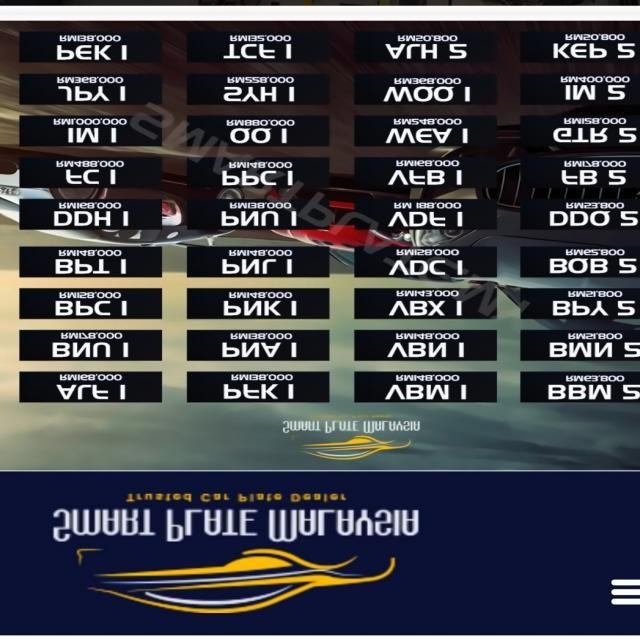car-plate: (18, 27, 162, 68), (188, 24, 330, 64), (354, 29, 496, 69), (188, 110, 326, 150), (23, 70, 164, 109), (18, 152, 162, 190), (352, 112, 496, 150), (353, 73, 500, 110), (187, 243, 330, 280), (353, 370, 498, 406), (352, 243, 495, 279), (353, 156, 494, 192), (17, 246, 163, 280), (21, 287, 160, 322), (186, 74, 326, 108), (23, 112, 160, 146), (17, 329, 162, 361), (353, 196, 498, 228), (524, 196, 640, 236), (188, 328, 328, 361), (188, 288, 332, 320), (22, 197, 160, 230), (357, 287, 498, 319), (358, 330, 499, 362), (187, 371, 330, 402), (187, 158, 325, 190), (20, 371, 162, 402), (520, 29, 640, 65), (520, 156, 640, 192), (521, 243, 640, 279), (518, 287, 640, 322), (188, 198, 330, 228), (524, 328, 640, 364), (518, 114, 640, 147), (518, 73, 640, 104), (518, 372, 640, 400)
